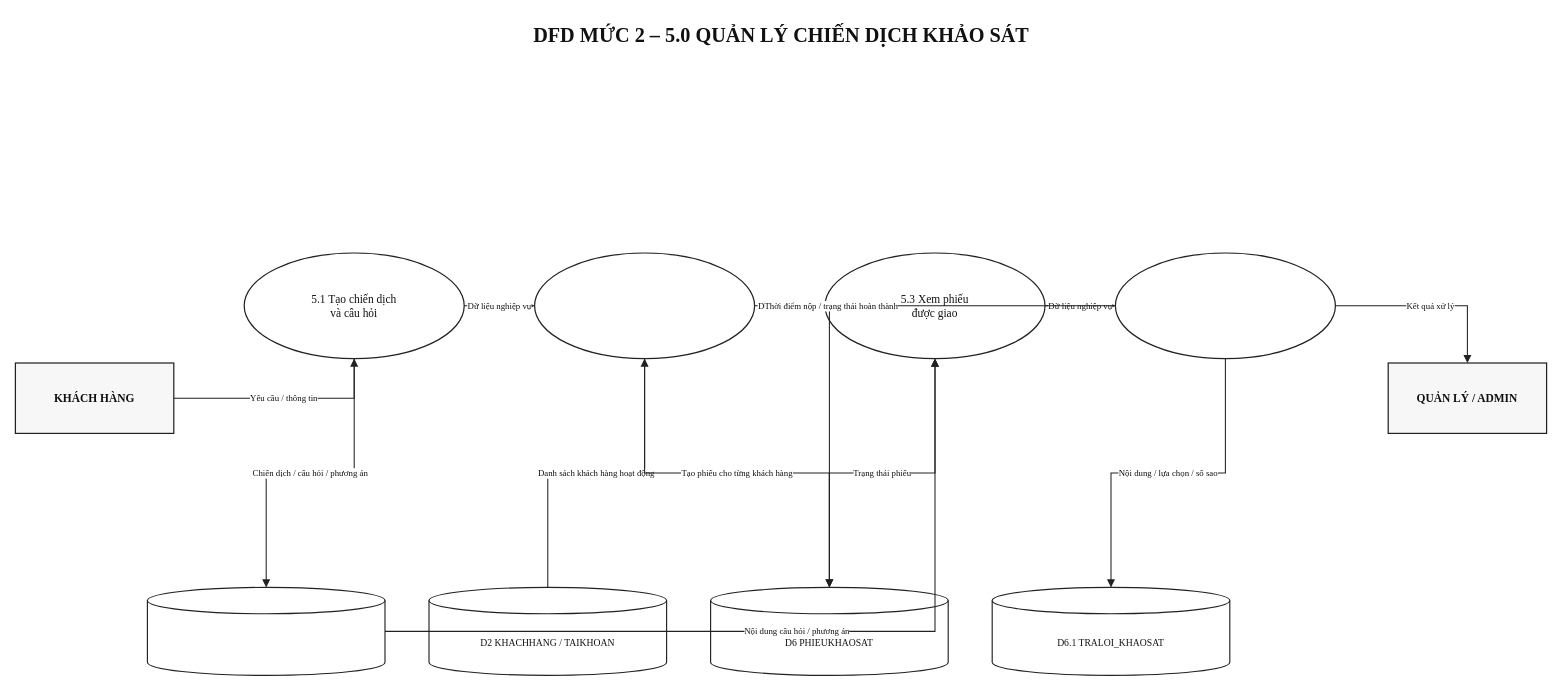
Image size: 1563x691. Some labels were removed from this diagram. The shapes that lost their labels are listed below. From the top down, each one's centre as x and y in pixels, then its label:
At pixel 644 305: "5.2 Phát phiếu cho khách hàng".
At pixel 1225 305: "5.4 Trả lời / nộp phiếu khảo sát".
At pixel 265 631: "D5 KHAOSAT / CAUHOI / LUACHON".
